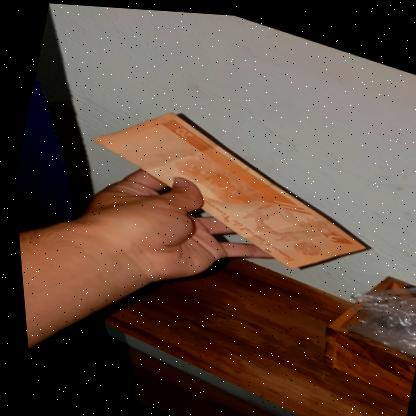twenty-back-vef: (68, 84, 386, 289)
